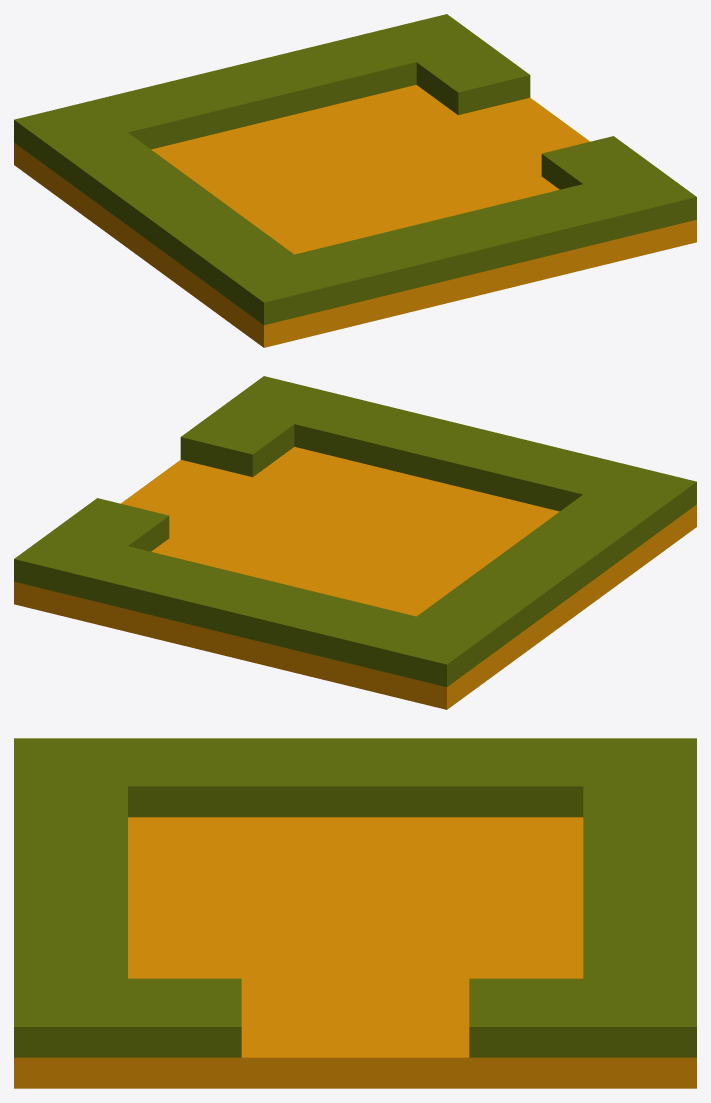
File: FarmStart.fbx
3 renders of one model, top to bottom at view 1: azimuth 30°, elevation 25°; view 2: azimuth 150°, elevation 25°; view 3: azimuth 270°, elevation 25°, orthographic. The views are drawn at different scales.
Parts seen in each view (by area): view 1: FarmStart; view 2: FarmStart; view 3: FarmStart.
Boxes of the visible parts, bbox=[...] form: FarmStart: bbox=[14, 14, 696, 347]; FarmStart: bbox=[14, 376, 696, 709]; FarmStart: bbox=[14, 738, 696, 1088].
Size of the model in its own units: 1 by 0.1 by 1.
